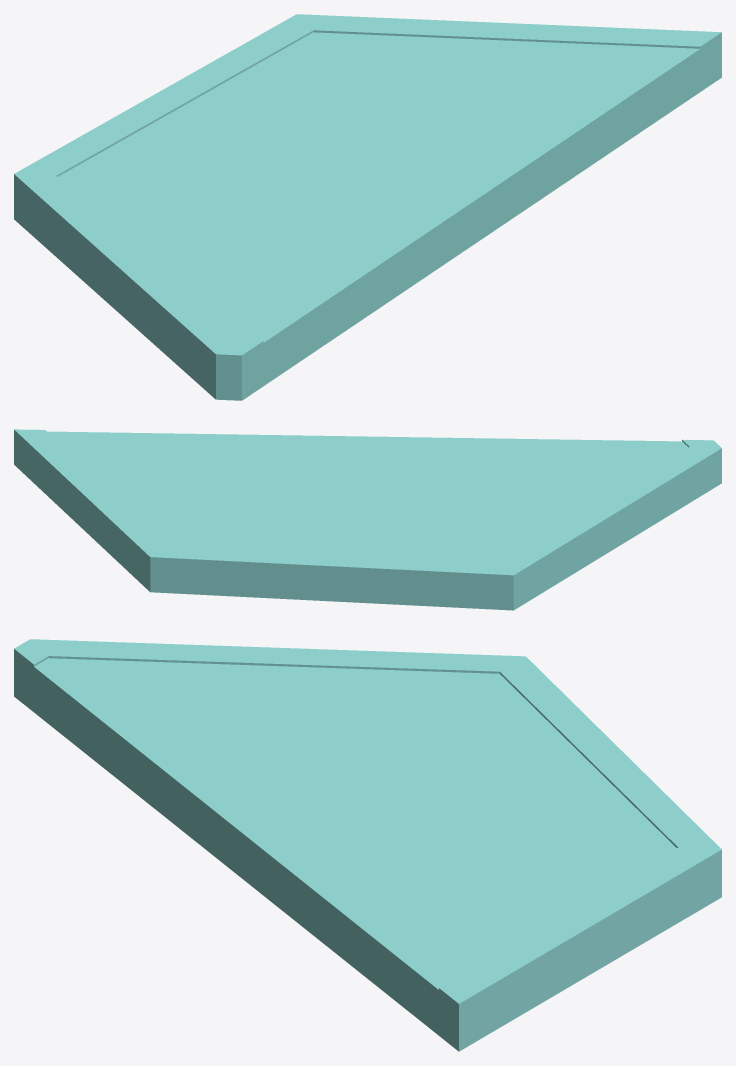
File: Platform_hole_3.fbx
The picture shows the model from 3 angles, top to bottom: view 1: azimuth 30°, elevation 25°; view 2: azimuth 150°, elevation 25°; view 3: azimuth 270°, elevation 25°; orthographic projection. The views are drawn at different scales.
Parts seen in each view (by area): view 1: Cube.156; view 2: Cube.156; view 3: Cube.156.
Part boxes in pixels (left/top/right/bottom): Cube.156: left=14, top=14, right=721, bottom=400; Cube.156: left=14, top=429, right=721, bottom=610; Cube.156: left=14, top=639, right=721, bottom=1051.
Size of the model in its own units: 30.59 by 1.87 by 25.09.
